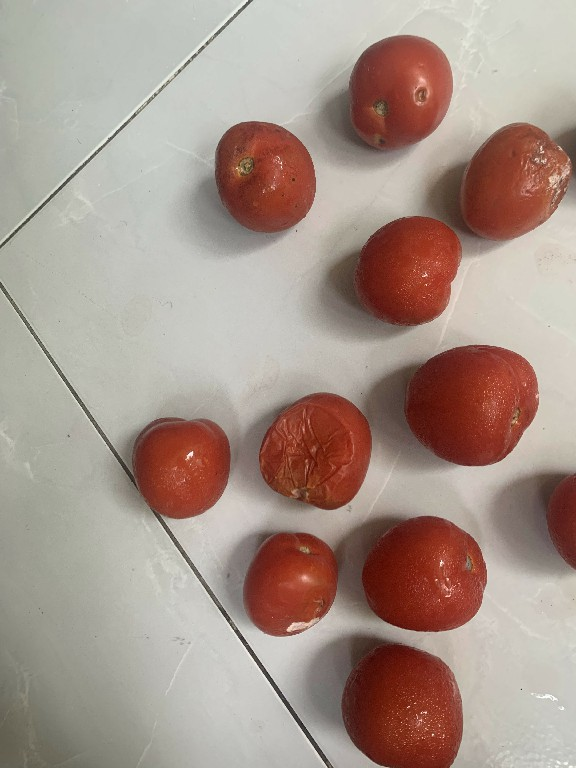NG: (448, 108, 576, 253), (213, 94, 319, 244), (335, 29, 456, 158), (253, 388, 369, 518), (244, 524, 342, 648)
OK: (394, 336, 548, 478), (355, 500, 490, 636), (339, 638, 473, 767), (349, 206, 476, 332), (125, 401, 236, 528)
